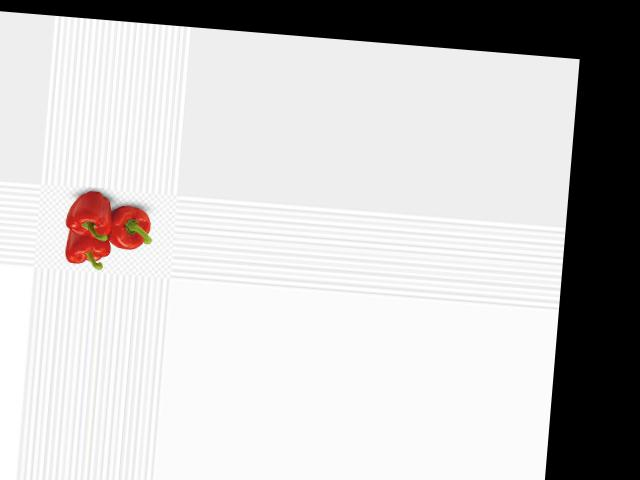bell_pepper: (102, 200, 157, 257)
